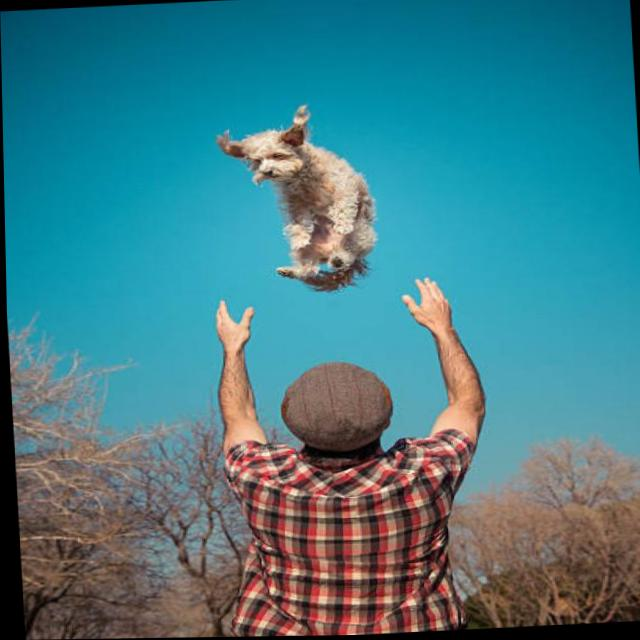no helmet: (275, 348, 401, 460)
